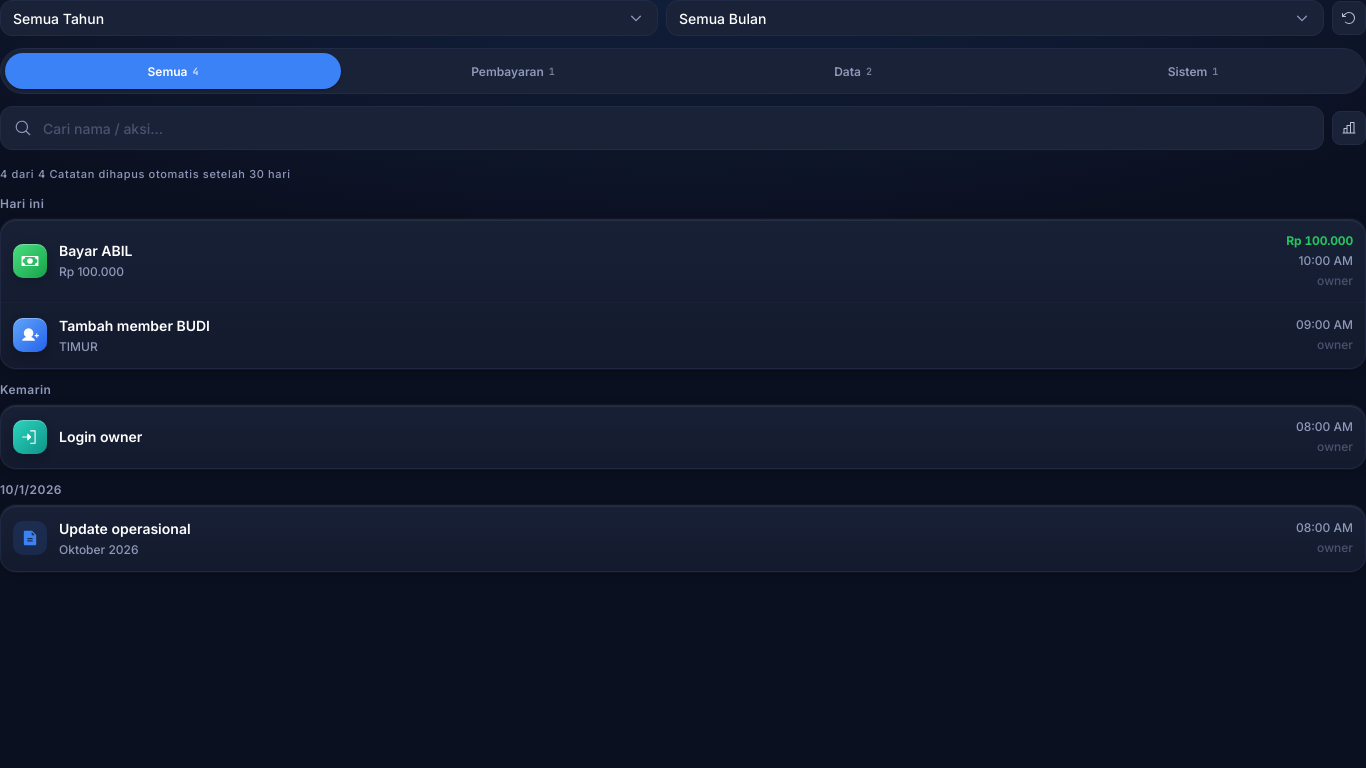
it: Log — A28 Detail dan A29 Statistik › A28: ketuk baris → Detail Aktivitas (judul, rincian, waktu, pelaku, jenis); Esc menutup
Click the button with aria-label "Buka detail aktivitas: Bayar ABIL" at point(30, 260), box [1, 220, 1365, 302]
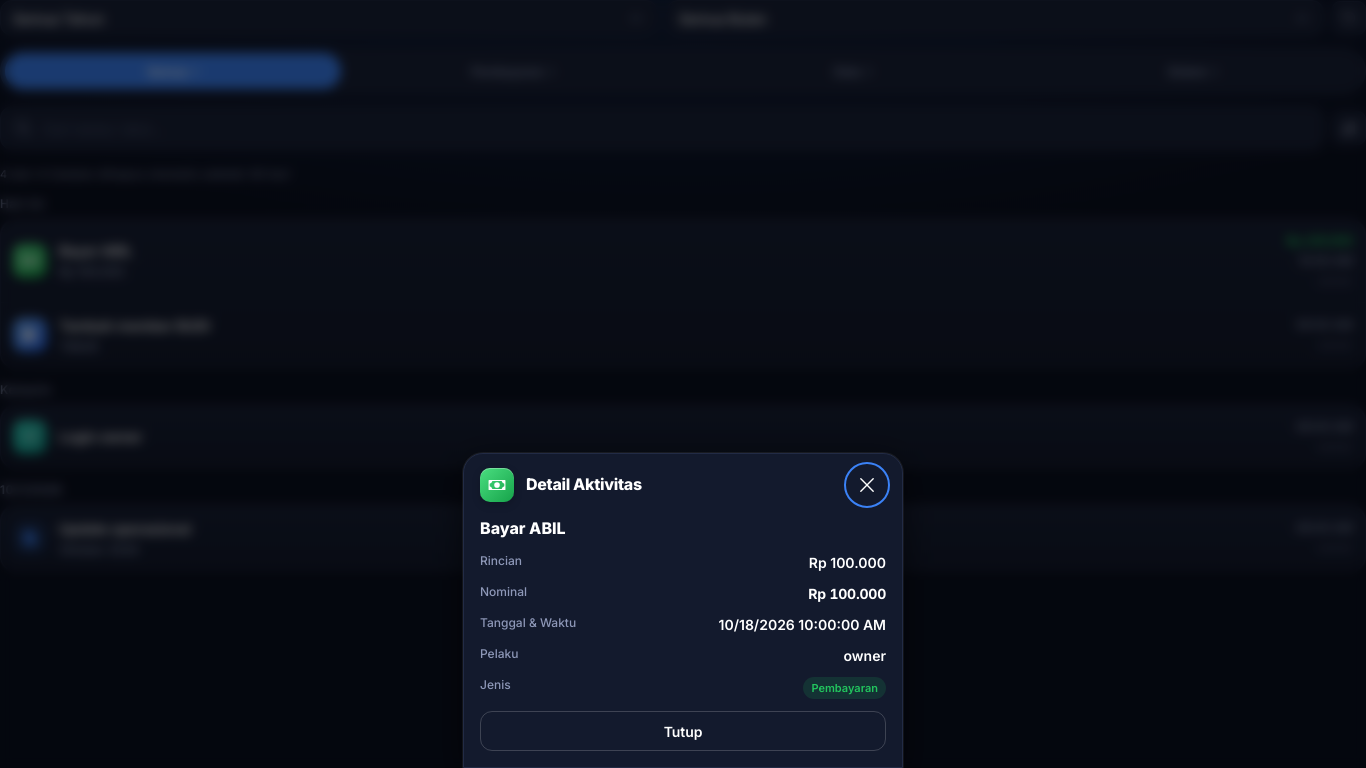
Result: the text "Detail Aktivitas" is shown at [526, 474, 642, 494]
Result: the text "Tanggal & Waktu" is shown at [480, 614, 576, 634]
Result: the text "Pelaku" is shown at [480, 646, 518, 660]
Press Escape
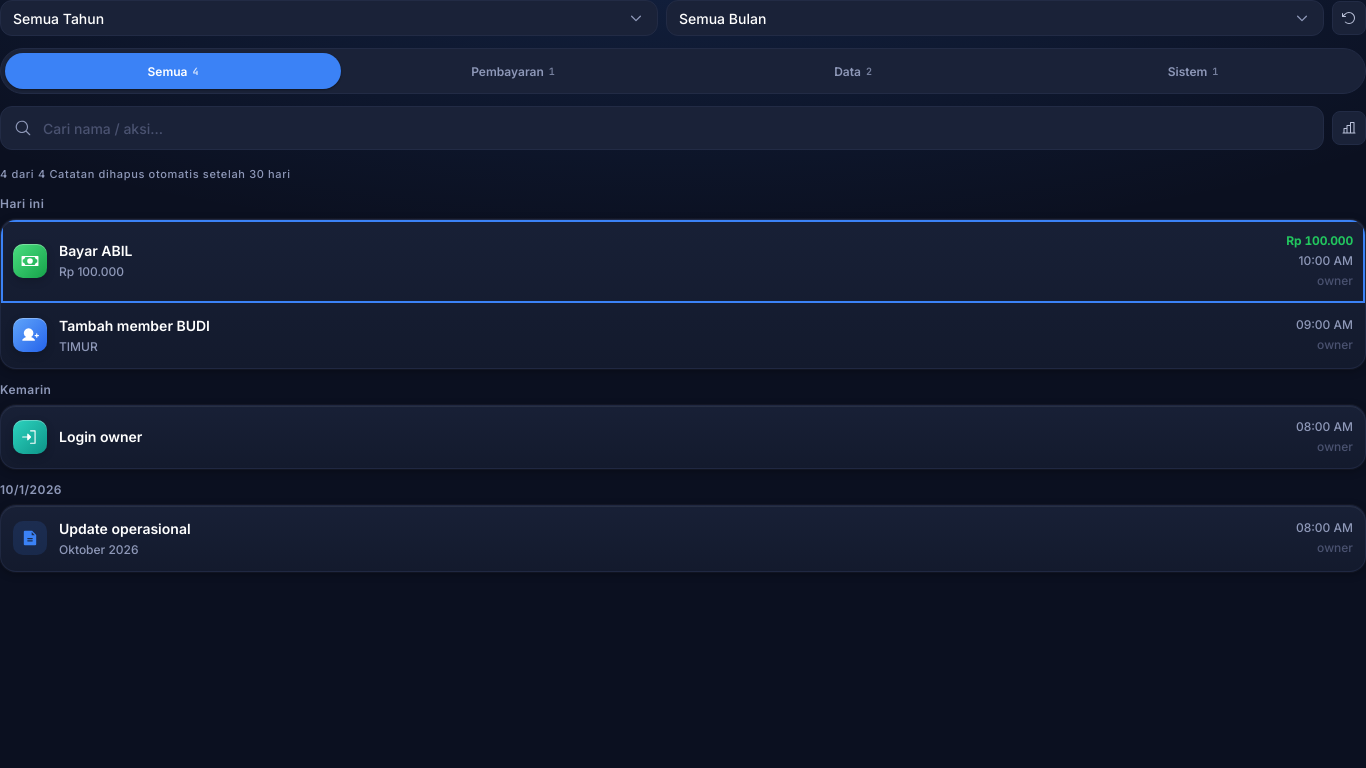
Result: the dialog is gone
